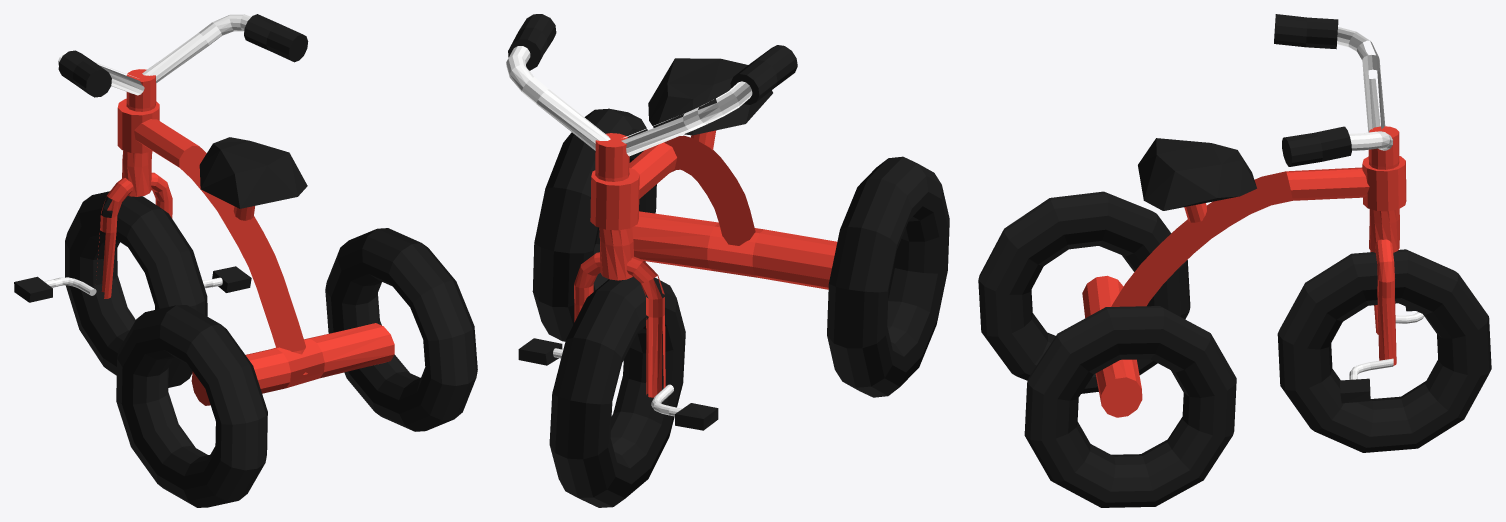
The model's file is scene_gr5ix9fMiz.glb.
3 views of the same model, side by side, from view 1: azimuth 30°, elevation 25°; view 2: azimuth 150°, elevation 25°; view 3: azimuth 270°, elevation 25° (orthographic). The views are drawn at different scales.
Visible parts, largest first — view 1: Node; view 2: Node; view 3: Node.
Boxes of the visible parts, x1,y1,x2,y2 form: Node: [14, 14, 477, 507]; Node: [506, 14, 949, 507]; Node: [978, 14, 1491, 507].
Size of the model in its own units: 0.815 by 0.9715 by 1.17.
